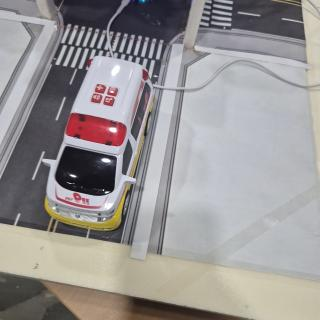Ambulance: (43, 56, 154, 231)
